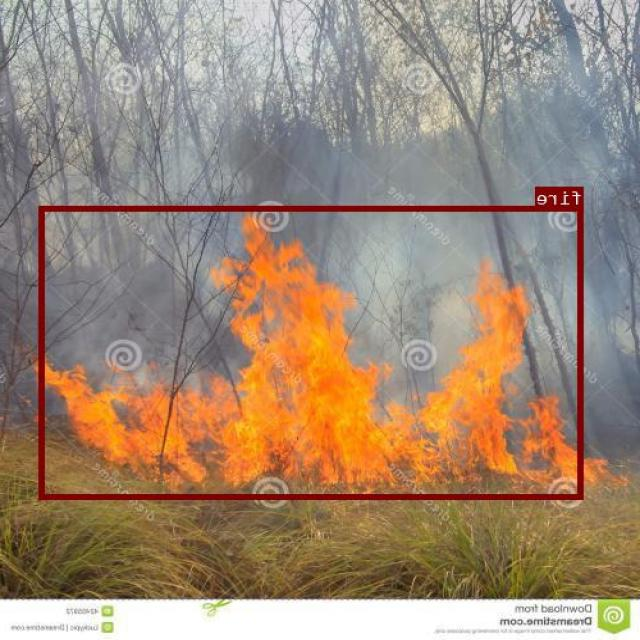fire: (41, 205, 584, 498)
